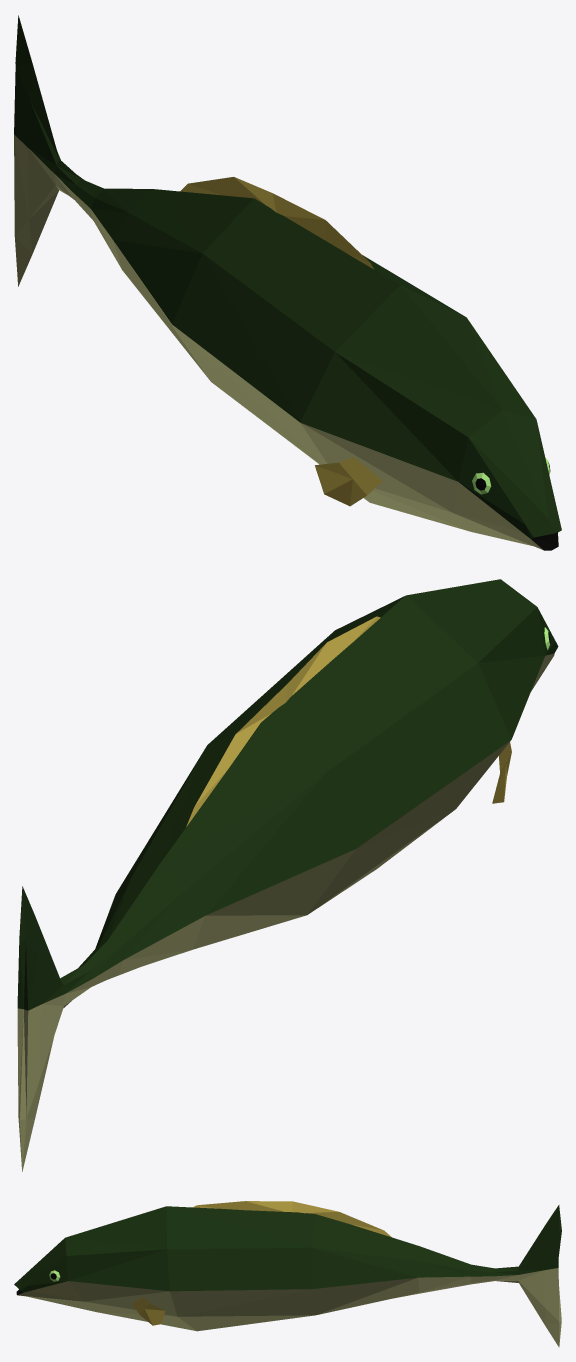
Rendered from Minnow_000002.obj.
3 views of the same model, one above another, from view 1: azimuth 30°, elevation 25°; view 2: azimuth 150°, elevation 25°; view 3: azimuth 270°, elevation 25° (orthographic). The views are drawn at different scales.
Size of the model in its own units: 0.6757 by 0.9146 by 3.05.
